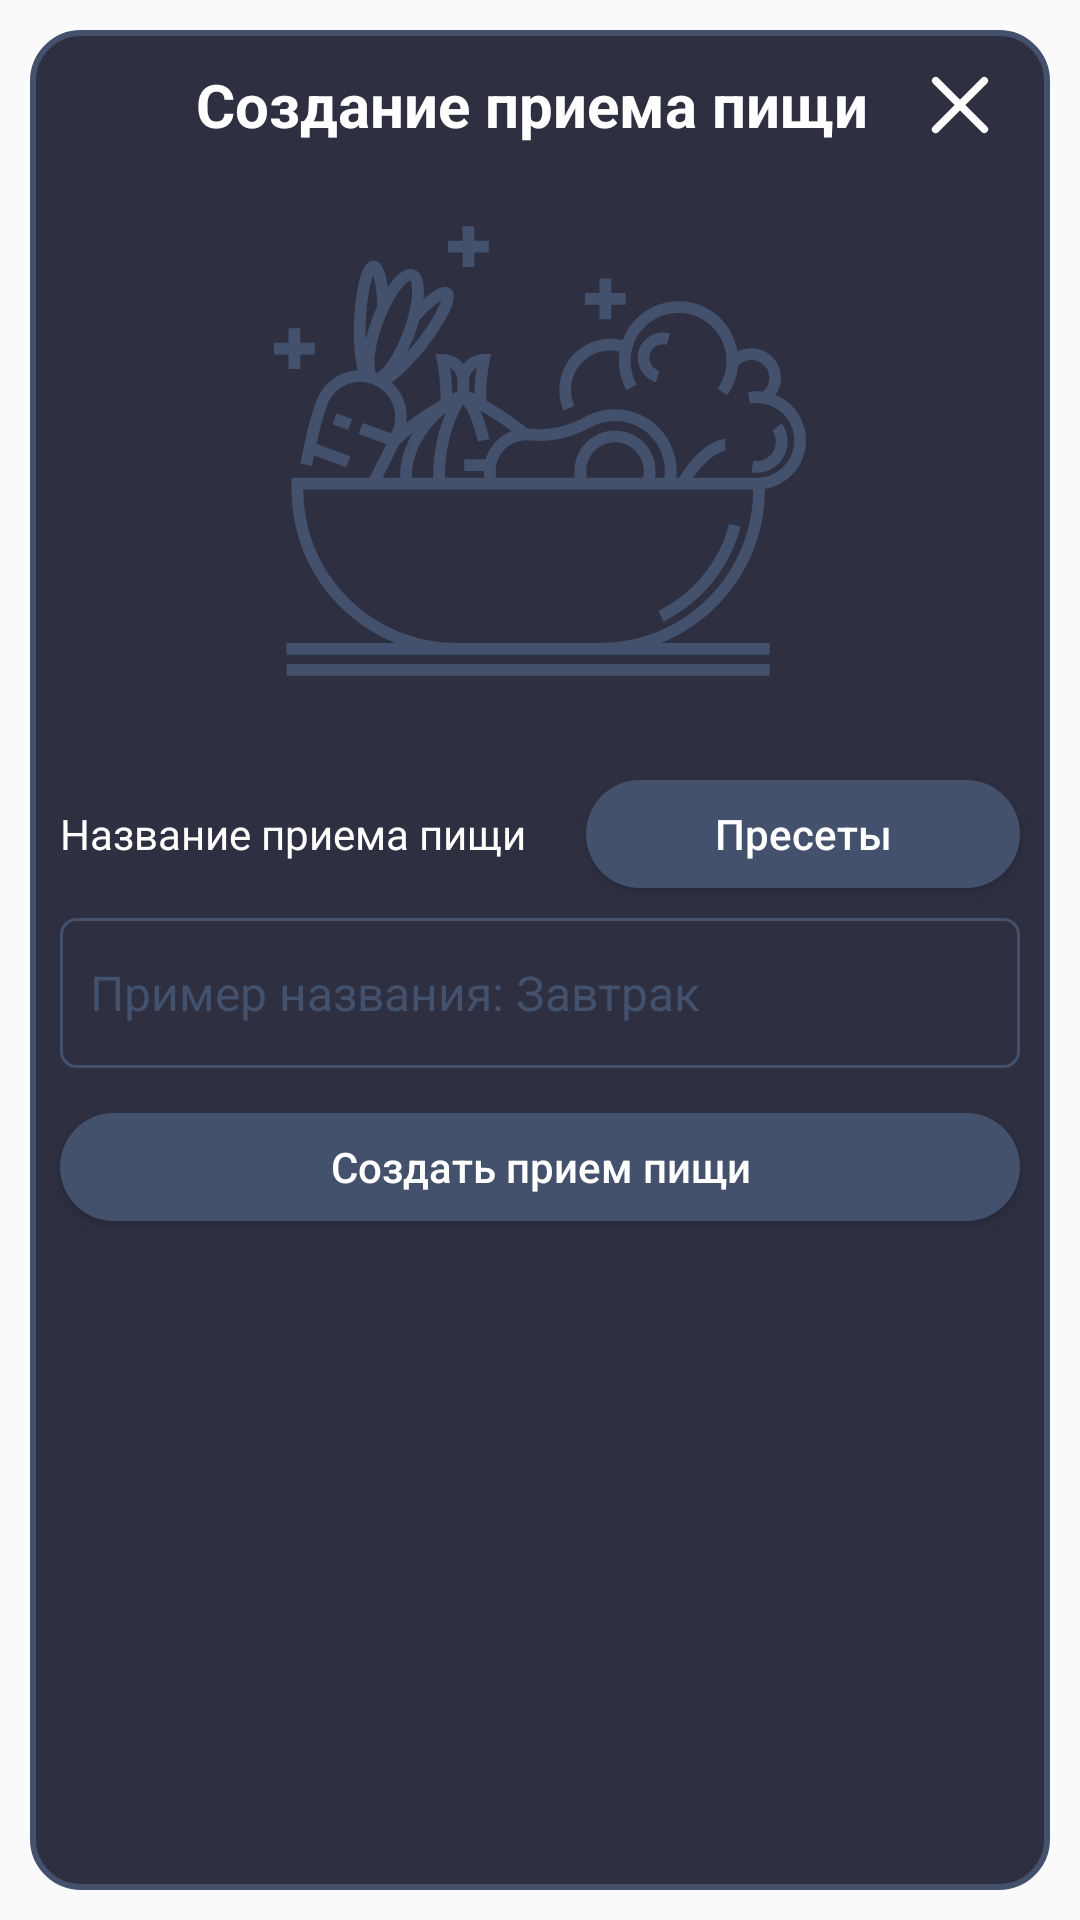

Icons on this 1080 × 1920 Android screen, each with the point to tap as (x=x, y=y):
close: (x=960, y=105)
